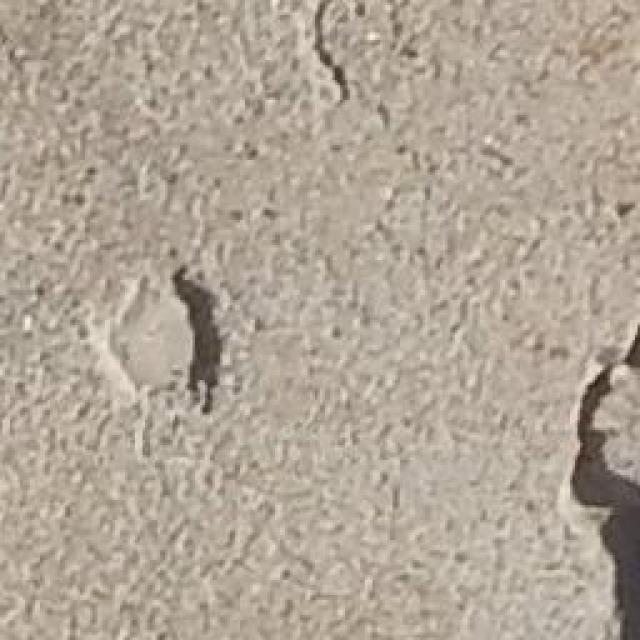concrete-crack: (565, 326, 640, 640), (168, 268, 225, 414), (309, 0, 355, 106)
